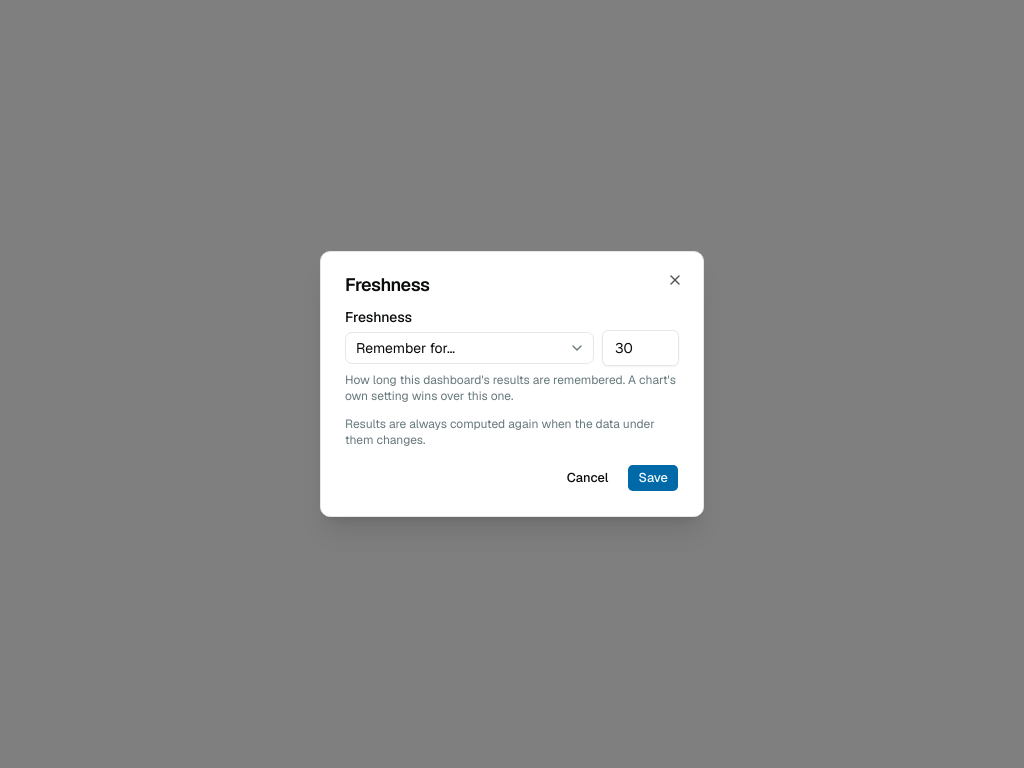
Test: the dashboard's Freshness dialog (BI-4 part B) › says the range and keeps Save off for minutes out of range
The width and height of the screenshot is (1024, 768).
Replace the text in the number field named "Freshness: minutes" with "2000" at (640, 348), box x1=602 y1=330 x2=679 y2=366
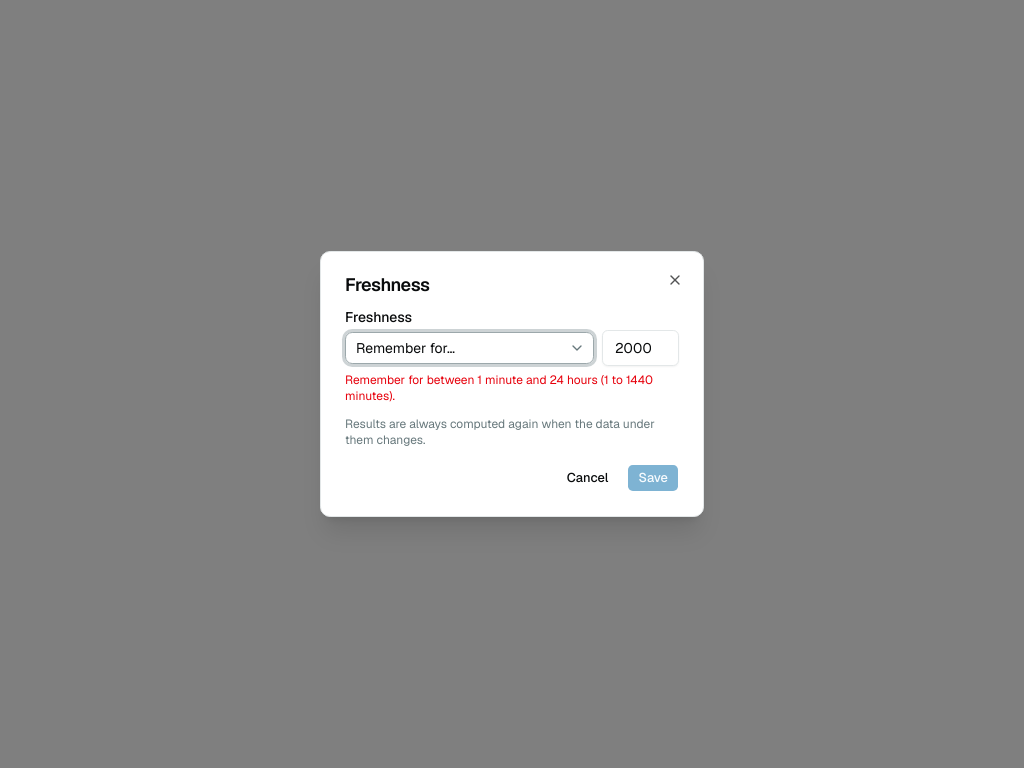
Now the message reads "Remember for between 1 minute and 24 hours (1 to 1440 minutes).", box x1=345 y1=372 x2=653 y2=404
Now the button "Save" is disabled, box x1=628 y1=464 x2=679 y2=492
